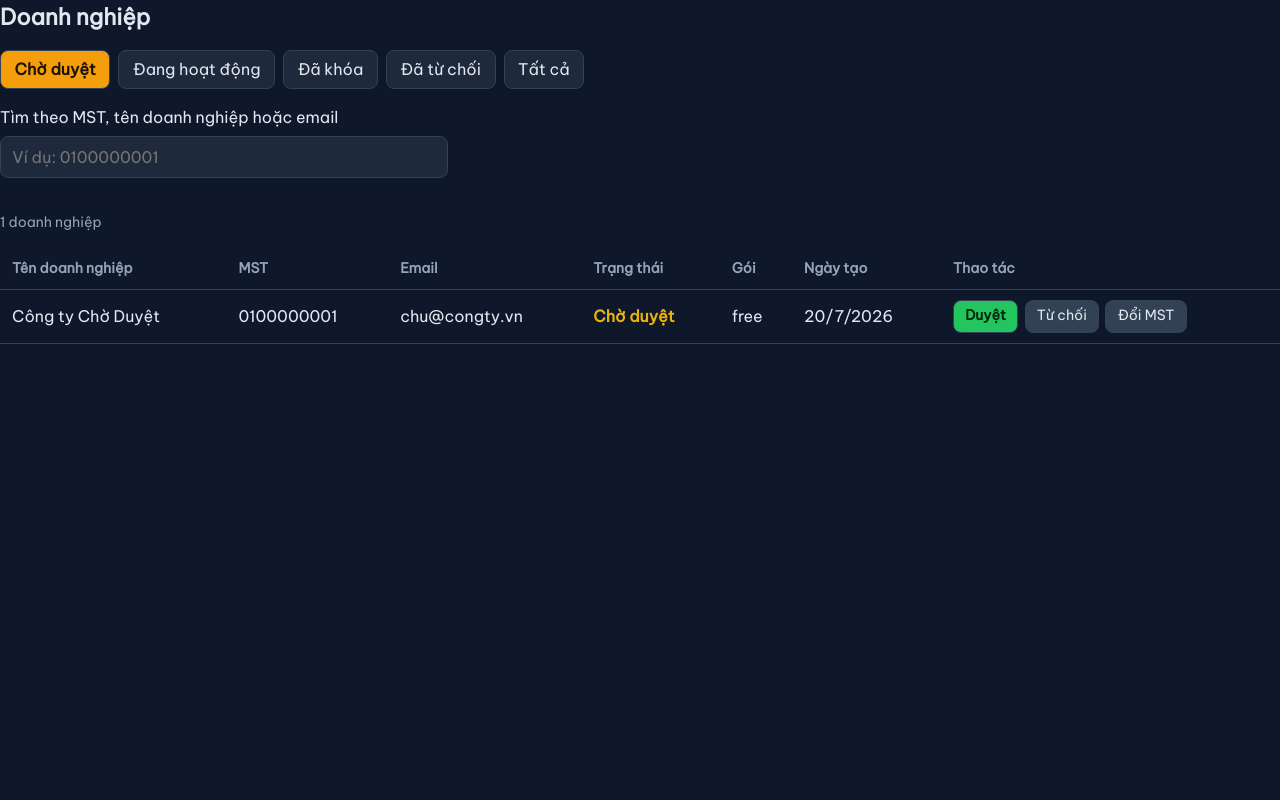
Scenario: 🔴 Lát cắt 3 — Duyệt KHÔNG còn hiện mật khẩu, chỉ báo đã gửi thư › Duyệt → hộp thoại nói đã gửi thư tới đâu, KHÔNG có mật khẩu nào
Click the button "Duyệt": click(986, 316) [953, 300, 1018, 333]
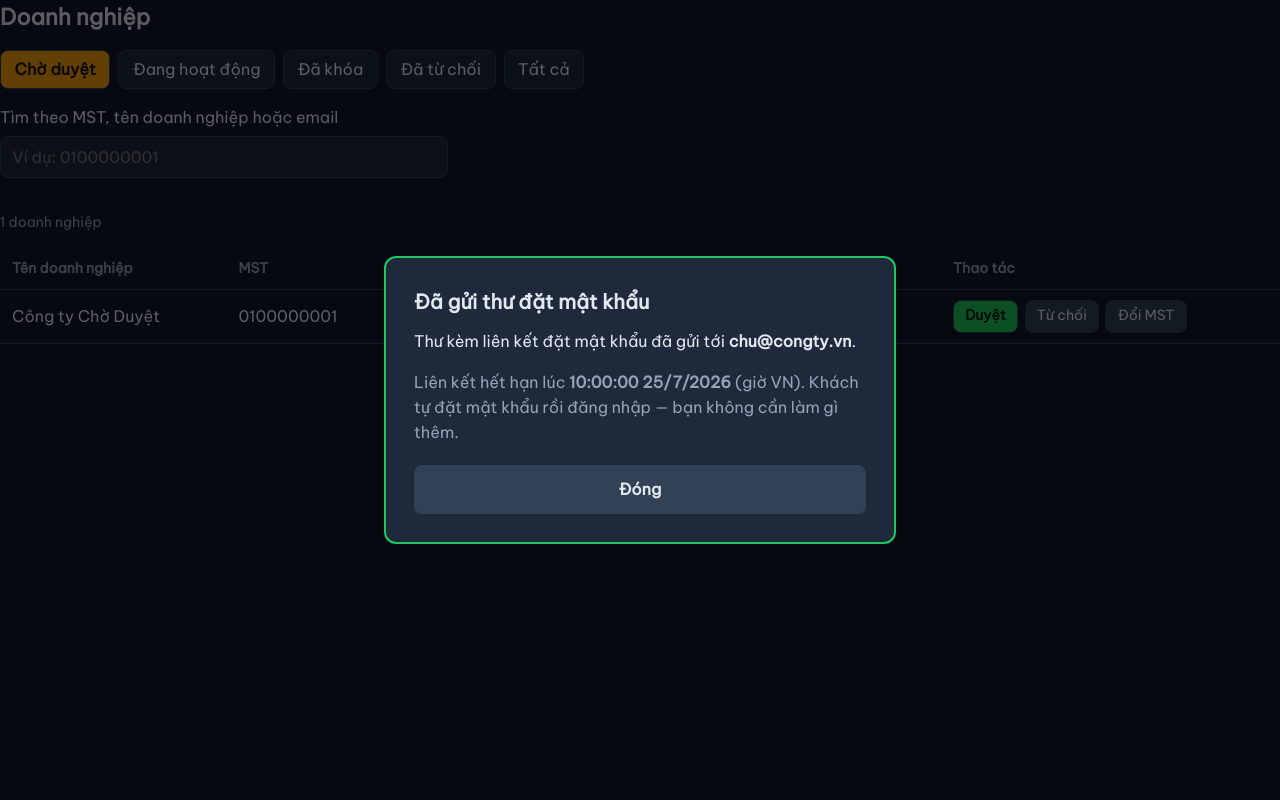
Now the heading "Đã gửi thư đặt mật khẩu" is shown, box [414, 289, 649, 314]
Now the text "chu@congty.vn" is shown, box [729, 331, 852, 351]
